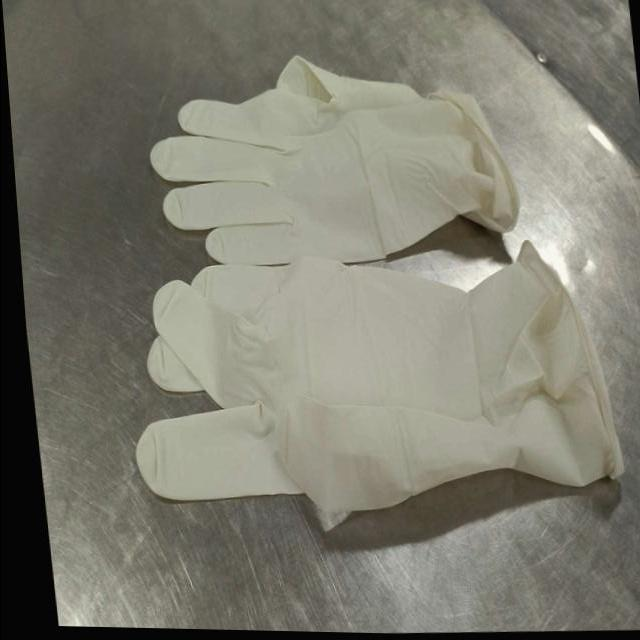Infectious: (135, 238, 625, 531), (149, 54, 520, 266)
Sharps: (535, 50, 548, 64)
